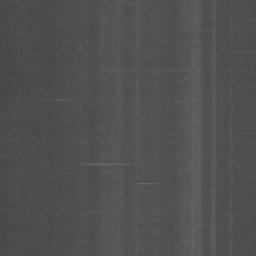Waist folding: (83, 161, 131, 167), (137, 181, 175, 186), (53, 97, 69, 103), (237, 49, 256, 54)
